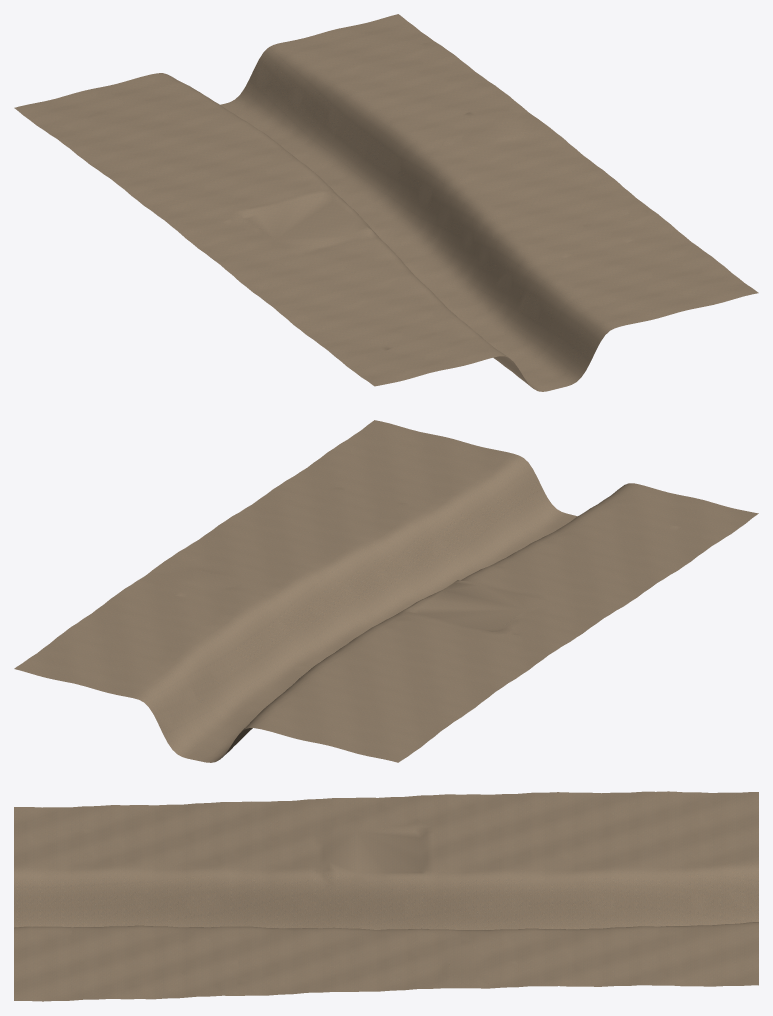
The model's file is TerraceSurface_LOD1.fbx.
3 renders of one model, top to bottom at view 1: azimuth 30°, elevation 25°; view 2: azimuth 150°, elevation 25°; view 3: azimuth 270°, elevation 25°, orthographic. The views are drawn at different scales.
Visible parts, largest first — view 1: TerraceSurface.001; view 2: TerraceSurface.001; view 3: TerraceSurface.001.
Part boxes in pixels (x1=…): TerraceSurface.001: x1=14, y1=14, x2=758, y2=391; TerraceSurface.001: x1=14, y1=420, x2=758, y2=762; TerraceSurface.001: x1=14, y1=791, x2=758, y2=1001.
Bounding box in the file's own units: 240 × 390 × 37.26.
